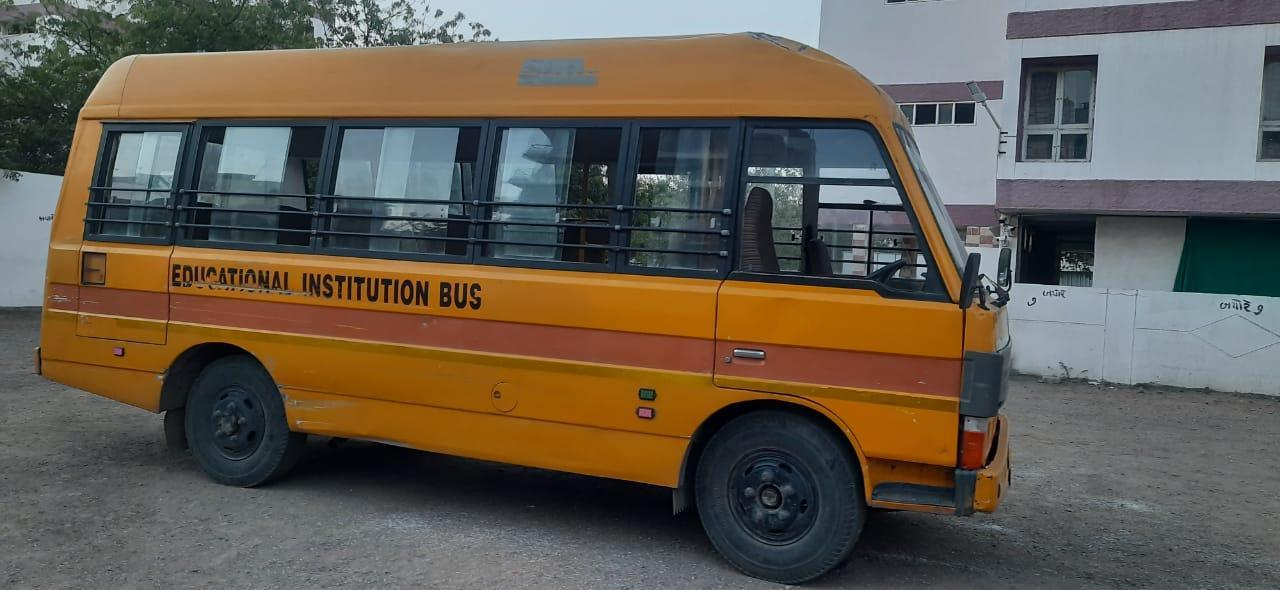Bus: (28, 20, 1053, 564)
